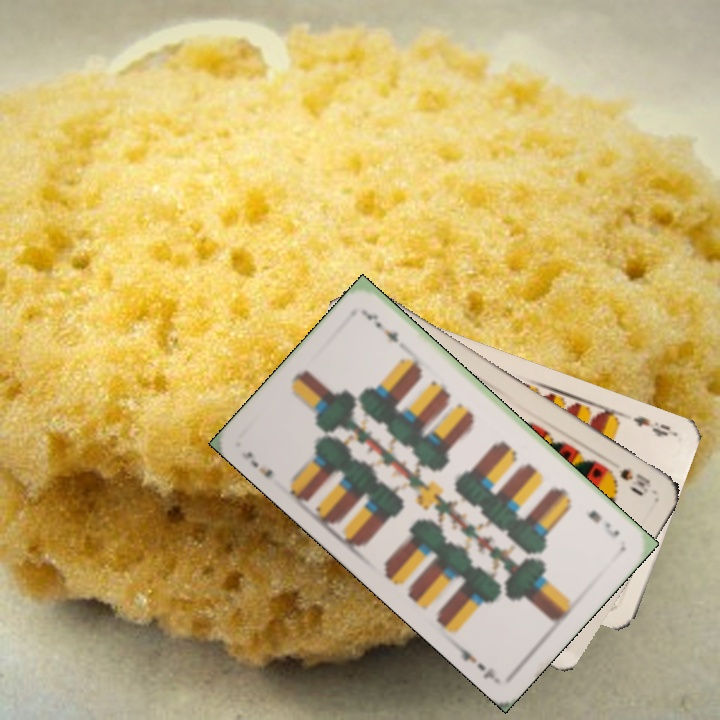E7: (583, 505, 622, 541), (237, 447, 276, 481)
E9: (629, 412, 678, 440)
S10: (602, 464, 654, 497)
